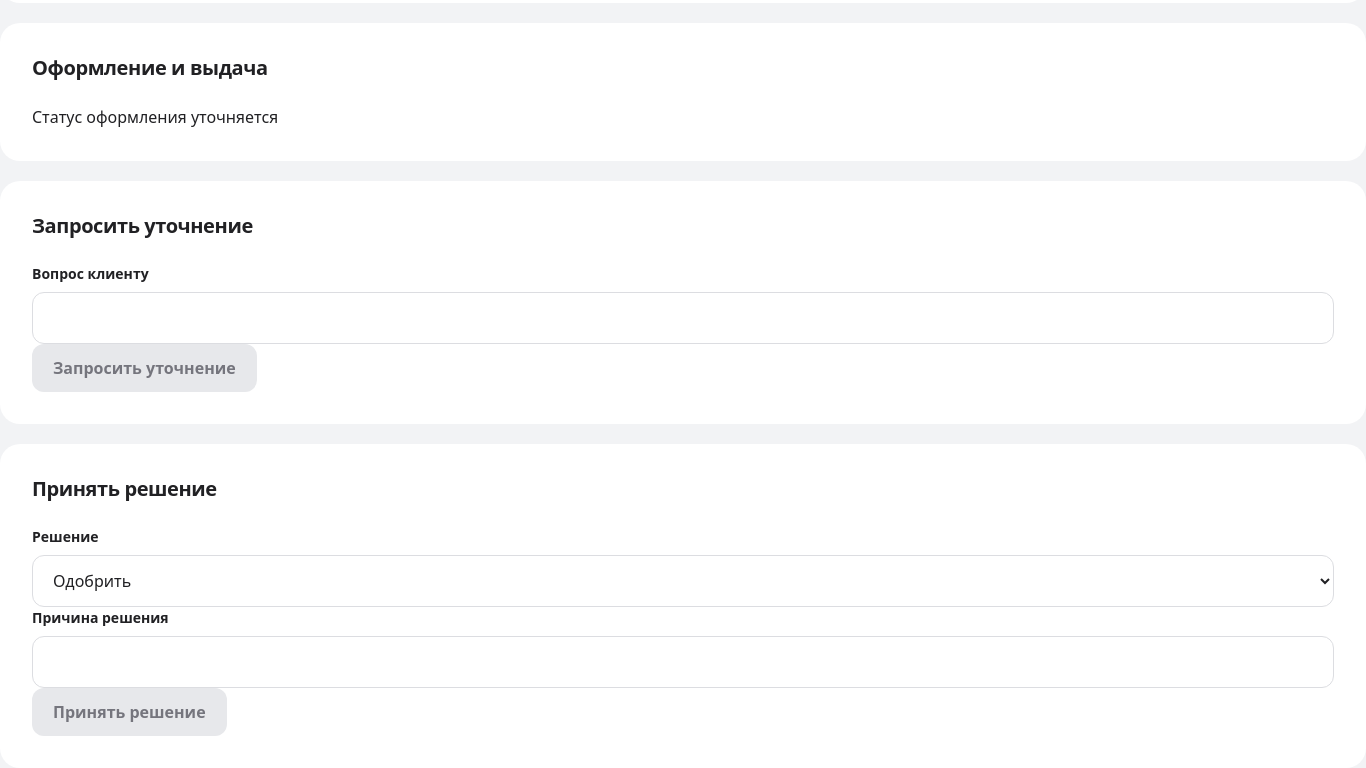
Test: sends approval only after explicit confirmation
The width and height of the screenshot is (1366, 768).
(page scrolled)
Type "Показатели проверены" into the field labelled "Причина решения" at (683, 662), box 32,636 -> 1334,688
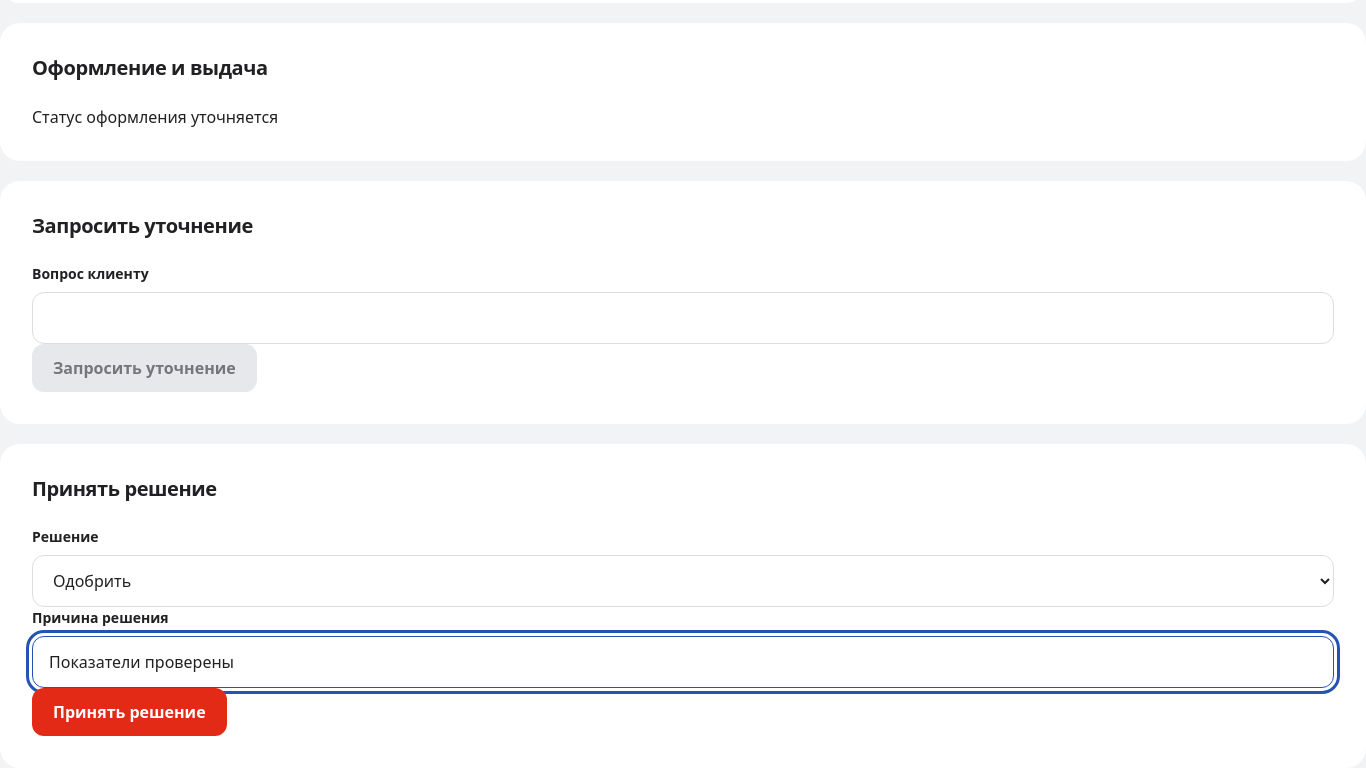
Click the button "Принять решение" at (129, 712), box 32,688 -> 227,736
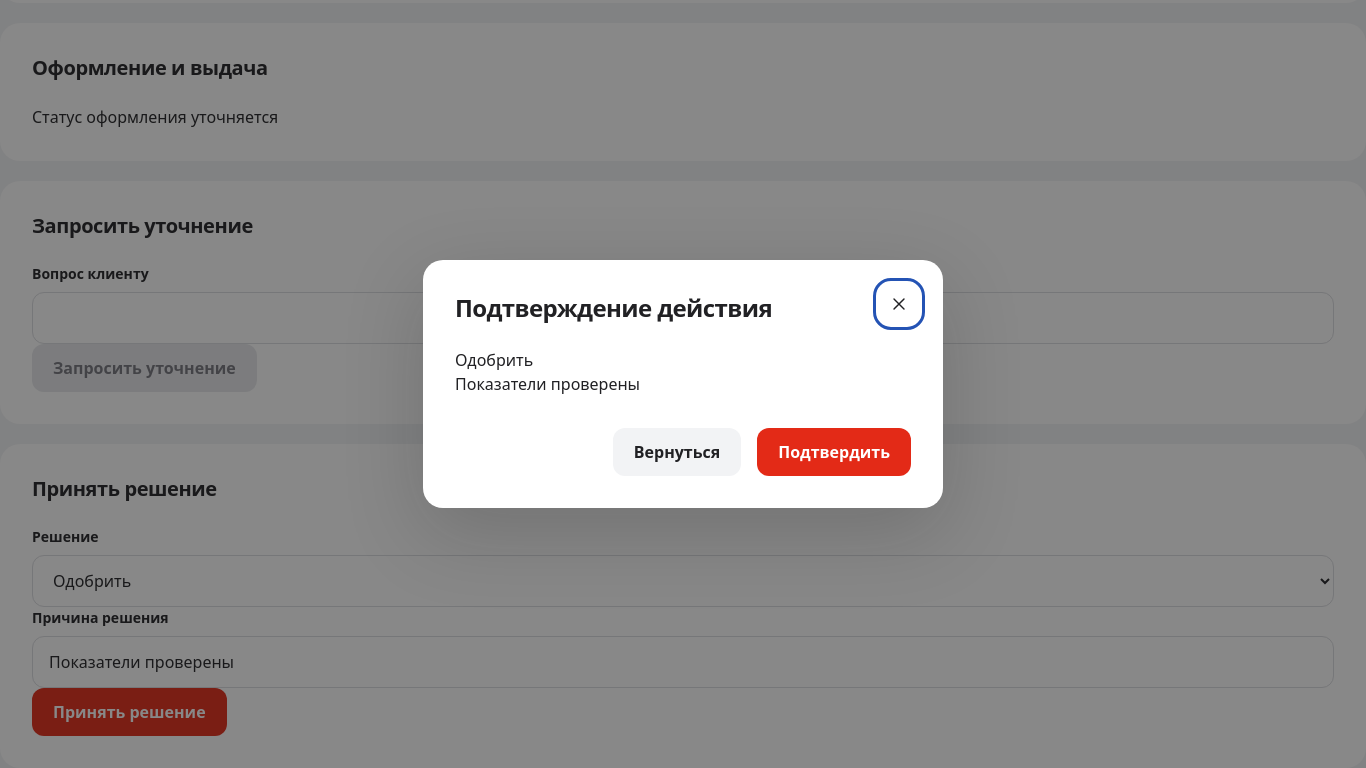
Click the button "Подтвердить" at (834, 452), box 757,428 -> 911,476
(page scrolled)
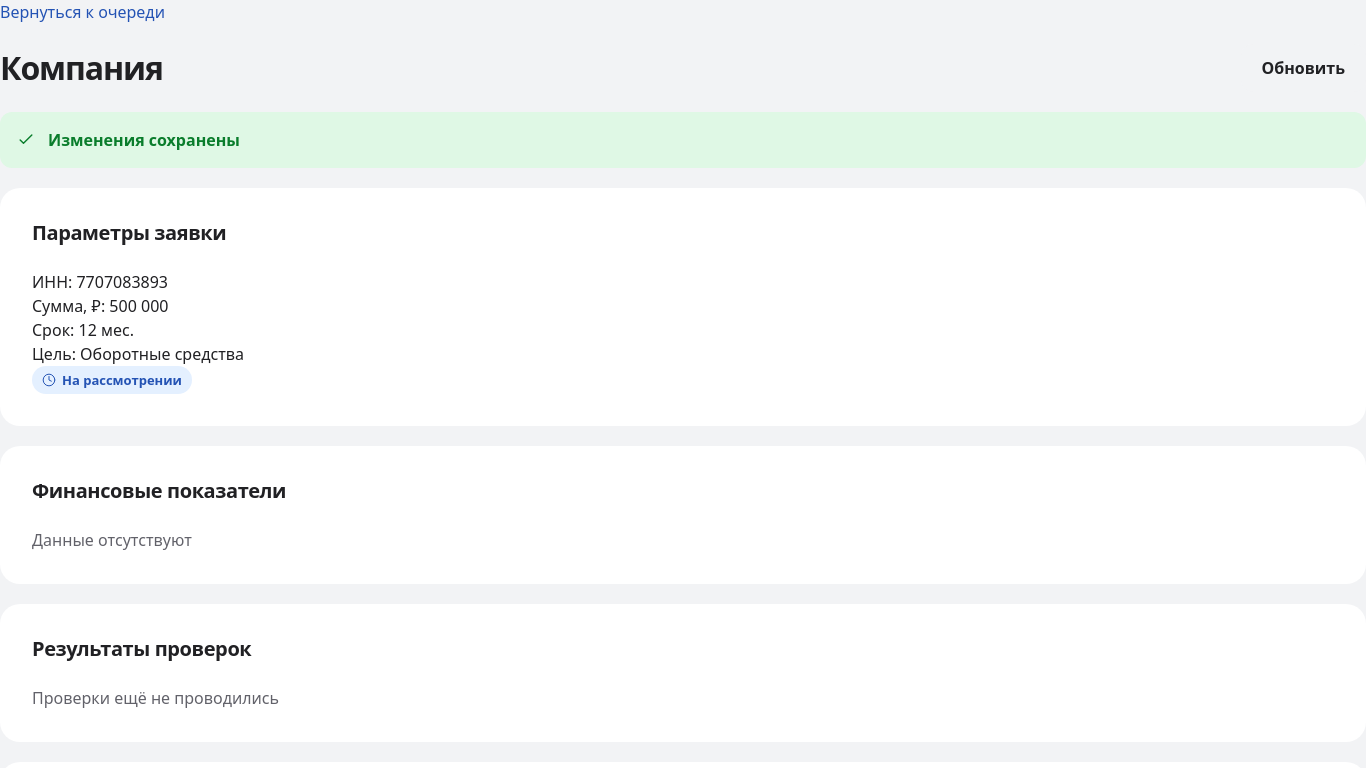
expect the text "Изменения сохранены" is shown: met, box 48,128 -> 240,152
expect the heading "Принять решение" is gone: met
